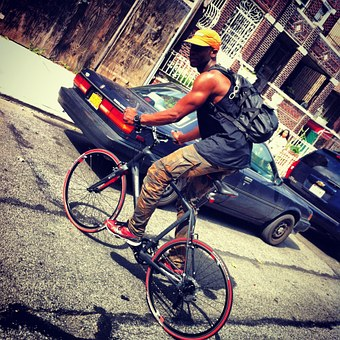bikerider: (62, 22, 257, 340)
